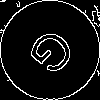G: (25, 25, 85, 85)
